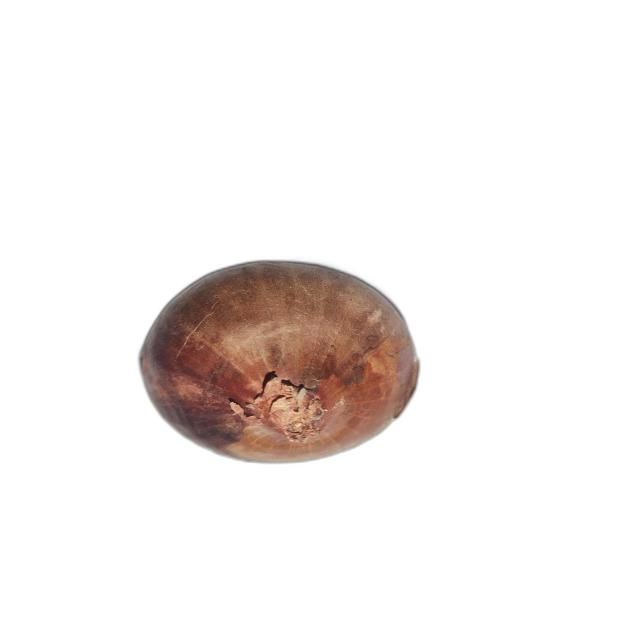onion: (138, 260, 421, 464)
